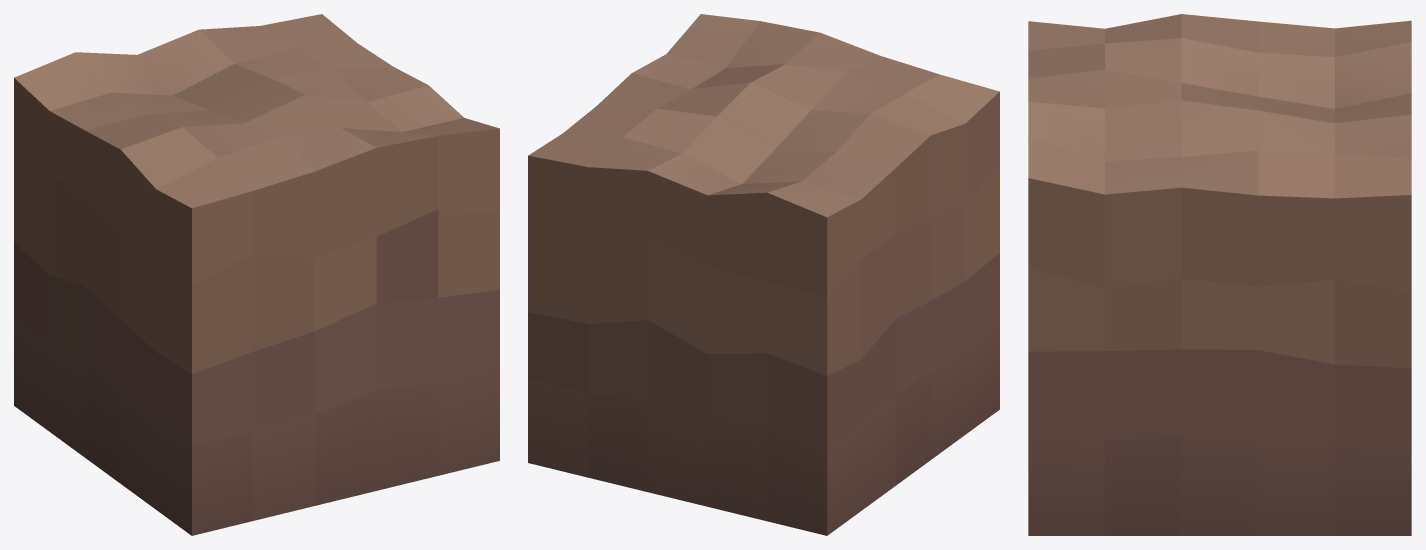
Rendered from roca_relleno.glb.
3 renders of one model, left to right at view 1: azimuth 30°, elevation 25°; view 2: azimuth 150°, elevation 25°; view 3: azimuth 270°, elevation 25°, orthographic. The views are drawn at different scales.
Parts seen in each view (by area): view 1: propforge-cuartos-roca_relleno; view 2: propforge-cuartos-roca_relleno; view 3: propforge-cuartos-roca_relleno.
Boxes of the visible parts, x1,y1,x2,y2 form: propforge-cuartos-roca_relleno: [14, 14, 499, 535]; propforge-cuartos-roca_relleno: [528, 14, 999, 535]; propforge-cuartos-roca_relleno: [1028, 14, 1411, 535].
Size of the model in its own units: 1 by 1.07 by 1.
